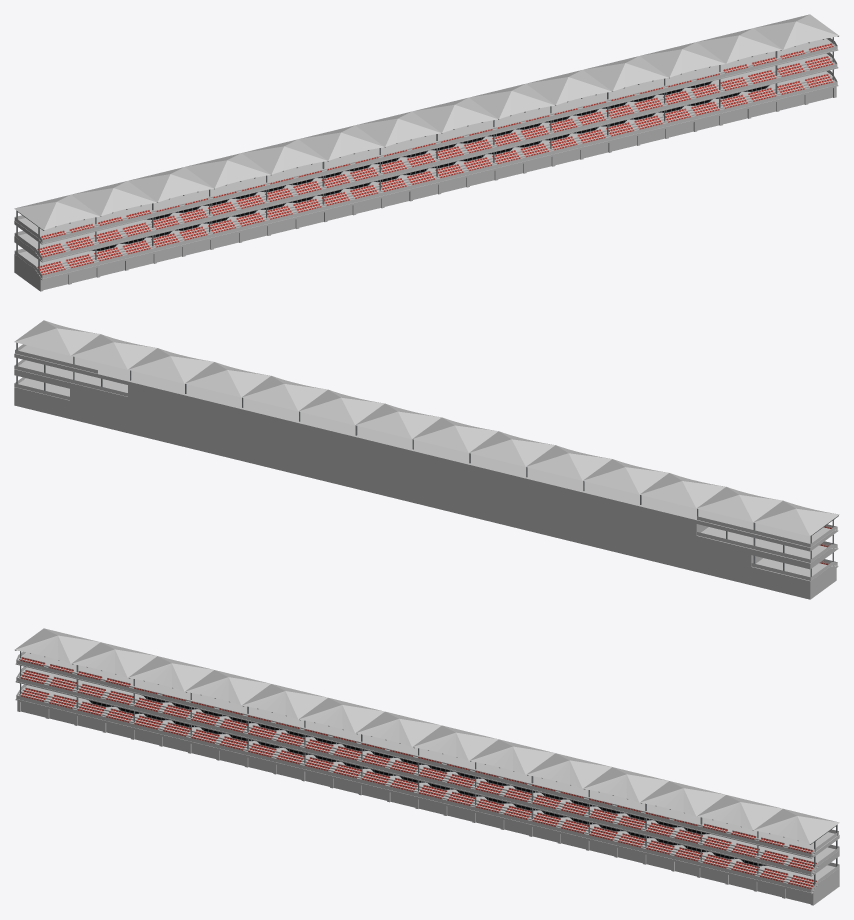
The model's file is Building-Grid-12.fbx.
3 views of the same model, one above another, from view 1: azimuth 30°, elevation 25°; view 2: azimuth 150°, elevation 25°; view 3: azimuth 330°, elevation 25° (orthographic).
Visible parts, largest first — view 1: Building-Grid-12; view 2: Building-Grid-12; view 3: Building-Grid-12.
Part boxes in pixels (x1,y1,x2,y2): Building-Grid-12: [14, 14, 839, 291]; Building-Grid-12: [14, 320, 839, 599]; Building-Grid-12: [14, 628, 839, 905].
Bounding box in the file's own units: 28000 × 2484 × 1820.
